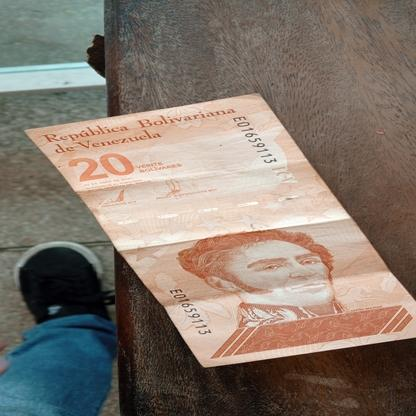twenty-front-vef: (23, 92, 416, 368)
